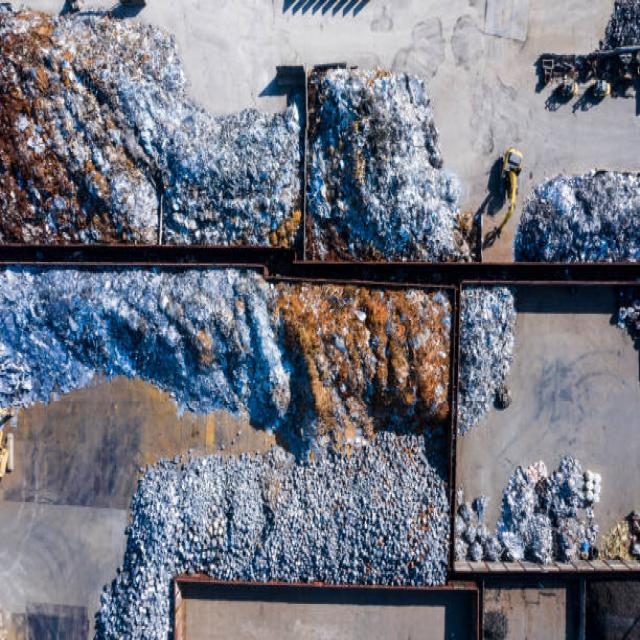trash: (15, 47, 608, 617)
